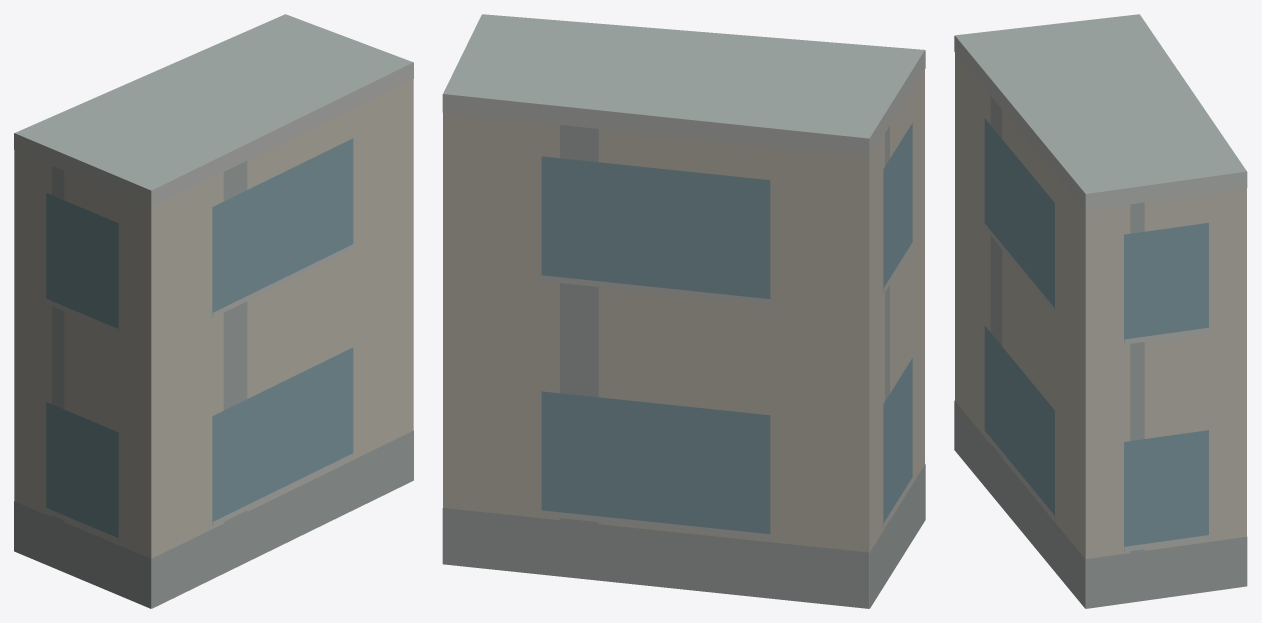
File: survey-upis-32634928.glb
3 renders of one model, left to right at view 1: azimuth 30°, elevation 25°; view 2: azimuth 150°, elevation 25°; view 3: azimuth 270°, elevation 25°, orthographic. The views are drawn at different scales.
Parts seen in each view (by area): view 1: survey-upis-32634928.tmp; view 2: survey-upis-32634928.tmp; view 3: survey-upis-32634928.tmp.
Boxes of the visible parts, x1,y1,x2,y2 form: survey-upis-32634928.tmp: (14,14,413,608); survey-upis-32634928.tmp: (442,14,925,608); survey-upis-32634928.tmp: (954,14,1247,608).
Size of the model in its own units: 5.69 by 6.1 by 3.91.
